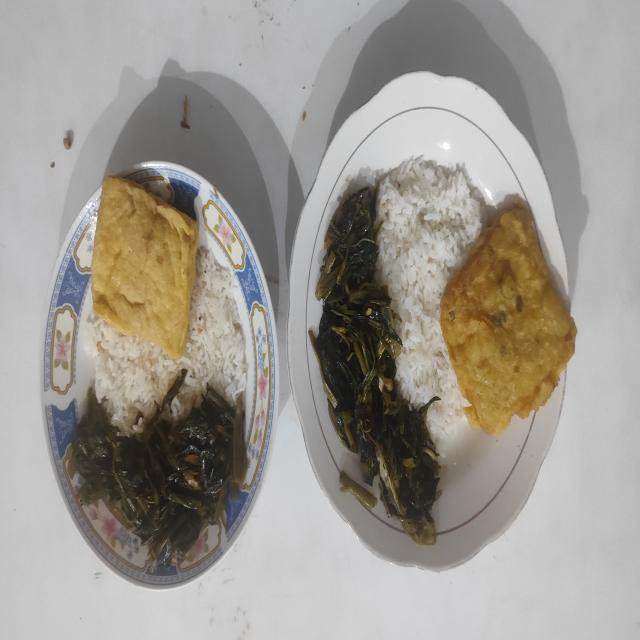nasi_putih: (85, 248, 248, 435), (376, 158, 482, 441)
tahu_goreng: (92, 176, 198, 358)
tumis_kangkung: (308, 188, 439, 544), (65, 387, 246, 574)
